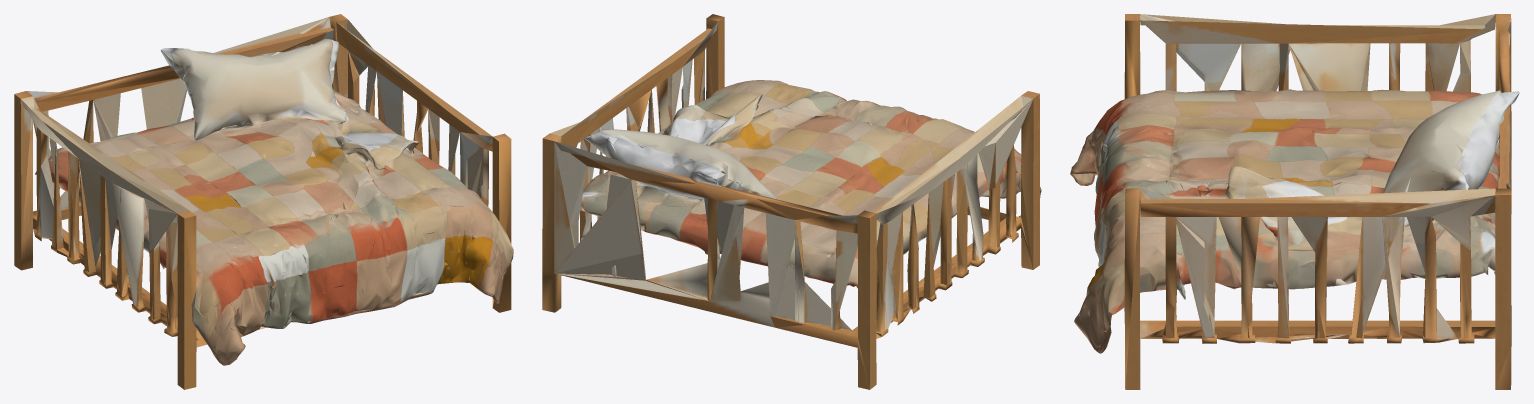
Rendered from Bed.fbx.
The picture shows the model from 3 angles, left to right: view 1: azimuth 30°, elevation 25°; view 2: azimuth 150°, elevation 25°; view 3: azimuth 270°, elevation 25°; orthographic projection. The views are drawn at different scales.
Parts seen in each view (by area): view 1: Mesh_0; view 2: Mesh_0; view 3: Mesh_0.
Boxes of the visible parts, x1=… form: Mesh_0: x1=14, y1=14, x2=513, y2=389; Mesh_0: x1=542, y1=14, x2=1041, y2=389; Mesh_0: x1=1070, y1=14, x2=1519, y2=389.
Size of the model in its own units: 182 by 95.93 by 190.
1 material, 1 textured.
